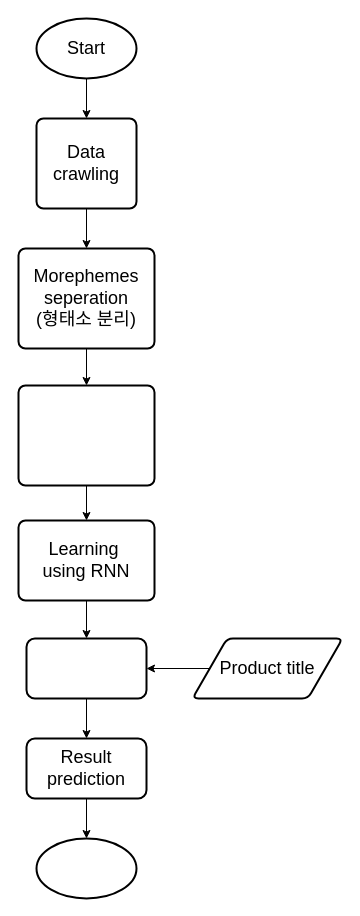
The diagram is 360 pixels wide and 916 high, and some of its shapes have lost their labels. The centre of each missing label's shape, as x and y in pixels:
End: [86,868]
Model: [86,668]
Remove stop words (불용어 제거): [86,435]
